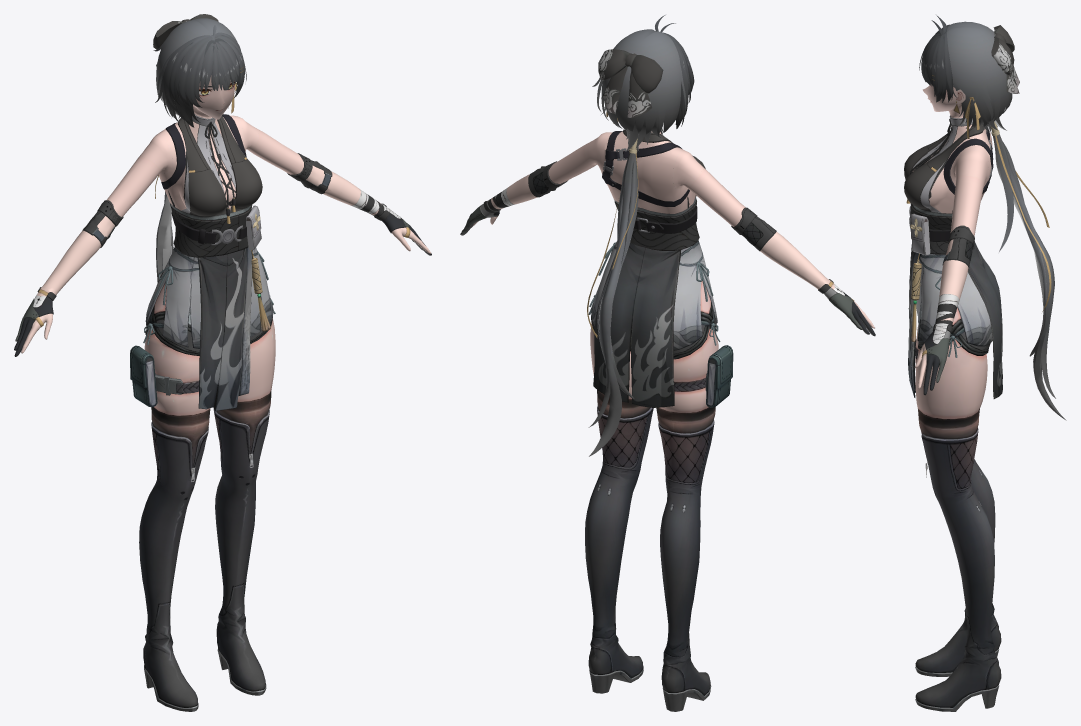
The model's file is female-rover.glb.
3 renders of one model, left to right at view 1: azimuth 30°, elevation 25°; view 2: azimuth 150°, elevation 25°; view 3: azimuth 270°, elevation 25°, orthographic.
Visible parts, largest first — view 1: MI_Down_002_New_Material_Variant_Variant_Variant_Variant_Var, MI_Up_002, body, qian, body_2_New_Material_Variant_Variant_Variant_Variant_Variant_, object 29, object 30, object 35, face; view 2: MI_Down_002_New_Material_Variant_Variant_Variant_Variant_Var, body, hou, MI_Up_002, body_2_New_Material_Variant_Variant_Variant_Variant_Variant_, object 30, object 35, hudiejie, object 29; view 3: MI_Down_002_New_Material_Variant_Variant_Variant_Variant_Var, MI_Up_002, body, body_2_New_Material_Variant_Variant_Variant_Variant_Variant_, object 30, object 35, hou, object 29, hudiejie, qian, object 32, object 33 (+1 smaller).
Boxes of the visible parts, <box> form: MI_Down_002_New_Material_Variant_Variant_Variant_Variant_Var: <box>130,247,275,711</box>; MI_Up_002: <box>14,114,431,356</box>; body: <box>21,105,431,353</box>; qian: <box>197,247,252,411</box>; body_2_New_Material_Variant_Variant_Variant_Variant_Variant_: <box>144,283,275,467</box>; object 29: <box>155,25,246,127</box>; object 30: <box>153,18,237,118</box>; object 35: <box>156,191,173,282</box>; face: <box>193,75,234,119</box>; MI_Down_002_New_Material_Variant_Variant_Variant_Variant_Var: <box>585,240,733,711</box>; body: <box>471,131,874,328</box>; hou: <box>593,243,680,407</box>; MI_Up_002: <box>460,129,875,336</box>; body_2_New_Material_Variant_Variant_Variant_Variant_Variant_: <box>590,281,718,432</box>; object 30: <box>592,29,686,151</box>; object 35: <box>588,152,638,456</box>; hudiejie: <box>598,49,663,118</box>; object 29: <box>655,15,694,128</box>; MI_Down_002_New_Material_Variant_Variant_Variant_Variant_Var: <box>915,254,1001,711</box>; MI_Up_002: <box>904,115,993,395</box>; body: <box>912,103,992,388</box>; body_2_New_Material_Variant_Variant_Variant_Variant_Variant_: <box>915,303,990,438</box>; object 30: <box>946,21,1012,132</box>; object 35: <box>993,134,1066,420</box>; hou: <box>968,241,1002,398</box>; object 29: <box>919,15,956,102</box>; hudiejie: <box>991,25,1019,93</box>; qian: <box>908,244,921,397</box>; object 32: <box>995,135,1051,311</box>; object 33: <box>911,253,921,341</box>.
Bounding box in the file's own units: 2.68 × 4.14 × 0.9102.
Materials: 16 (7 with a texture image).
